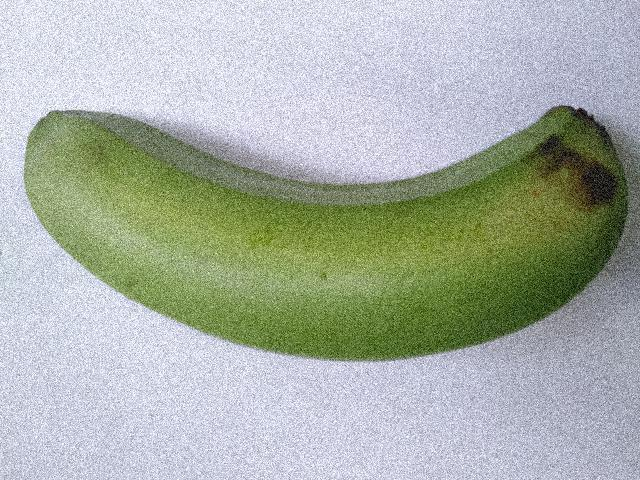freshunripe: (21, 76, 639, 385)
